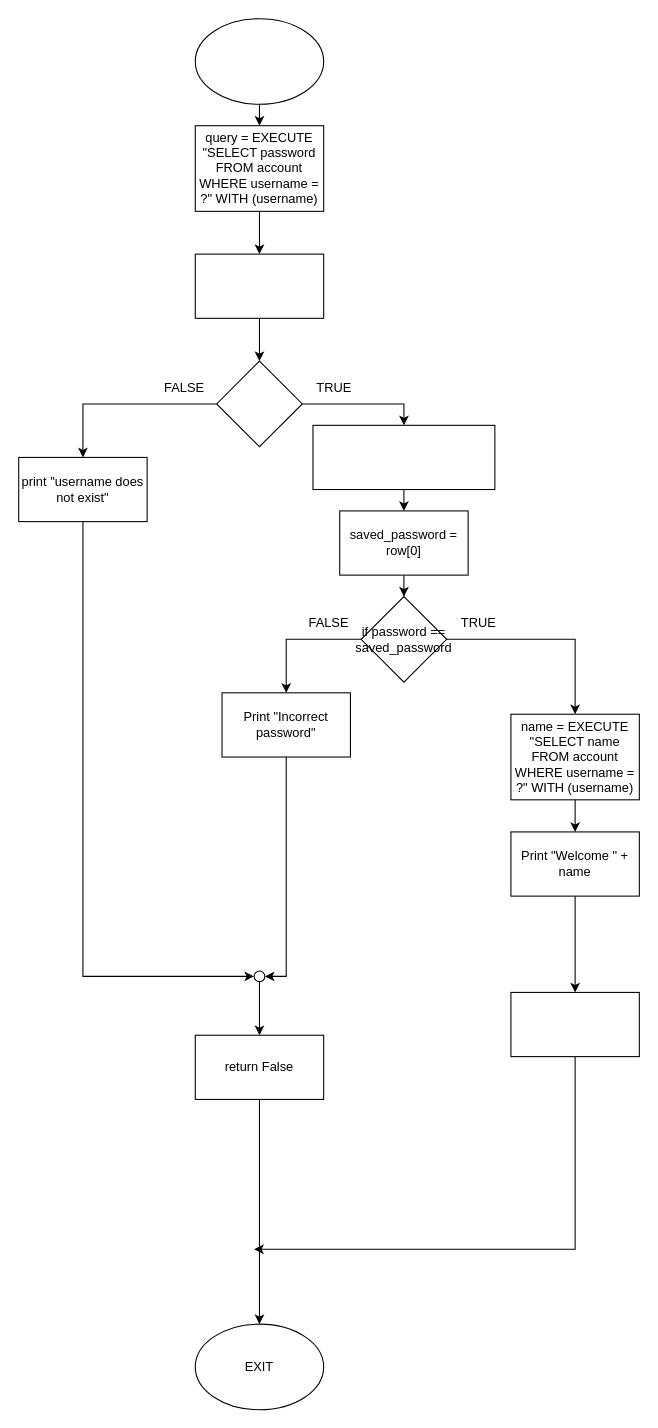
Image size: 658x1428. Some labels were removed from this diagram. The shapes that lost their labels are listed below. From the top down, each one's box as (x1, y1, x2, y2) in pixels, then its label:
(194, 18, 324, 104): login (username, password)
(194, 253, 324, 318): row = query
(216, 360, 302, 447): if row
(312, 424, 495, 490): password = SHA256(password) -> Hex
(510, 991, 639, 1057): return True
